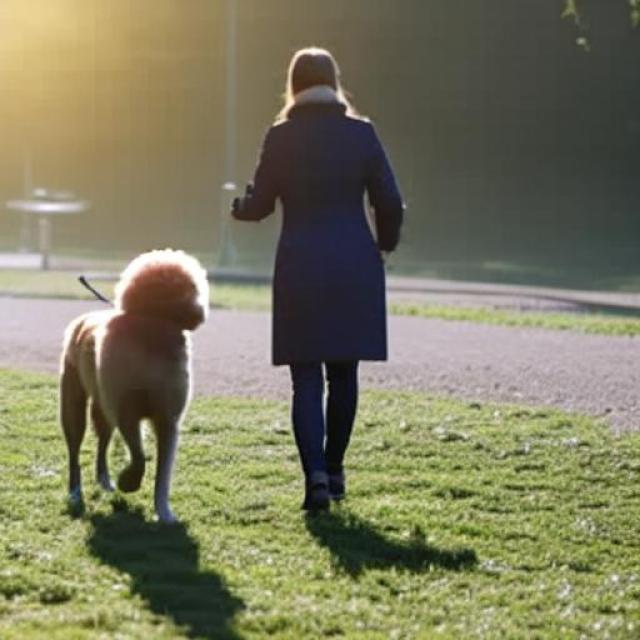Unleashed_Dog: (61, 226, 386, 521)
